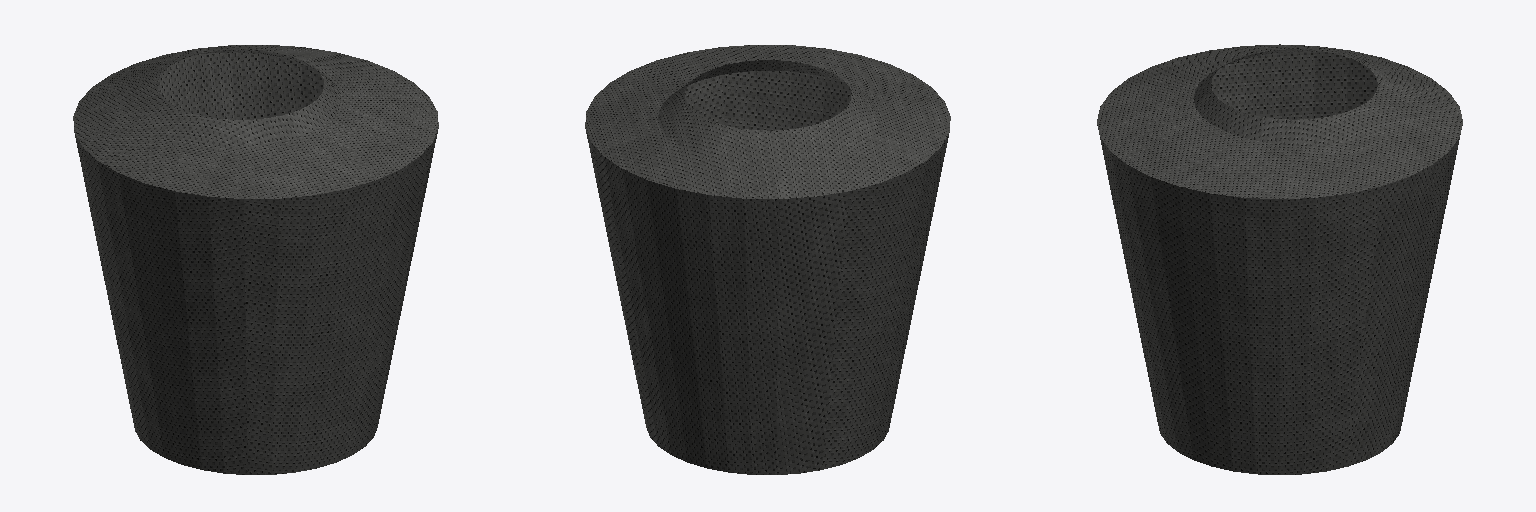
The picture shows the model from 3 angles: view 1: azimuth 30°, elevation 25°; view 2: azimuth 150°, elevation 25°; view 3: azimuth 270°, elevation 25°; orthographic projection.
Visible parts, largest first — view 1: Cylinder; view 2: Cylinder; view 3: Cylinder.
Boxes of the visible parts, <box> form: Cylinder: <box>73,45,438,474</box>; Cylinder: <box>585,45,950,474</box>; Cylinder: <box>1097,44,1462,474</box>.
Size of the model in its own units: 1.03 by 1.04 by 1.03.
1 materials, 1 textured.